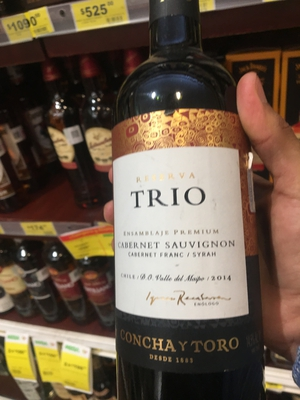trio cabernet sauvignon: (100, 31, 263, 400)
